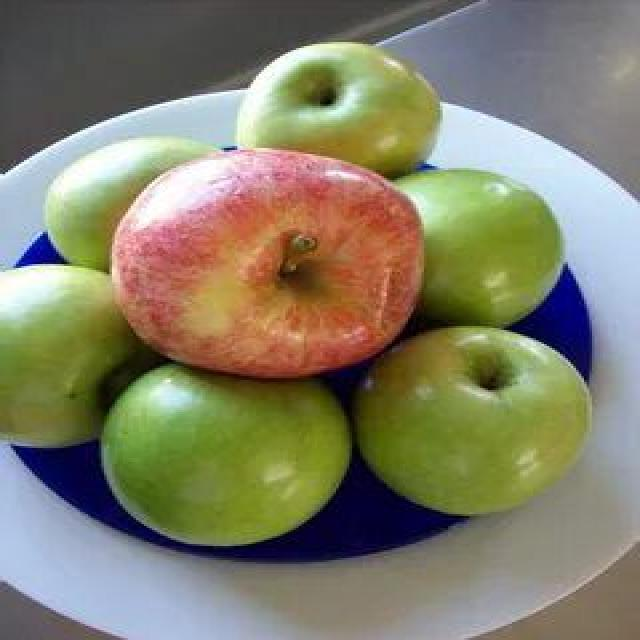fresh_apple: (112, 141, 427, 369), (101, 365, 355, 547), (356, 326, 593, 514), (240, 44, 443, 180), (400, 169, 565, 327), (0, 266, 125, 452)
